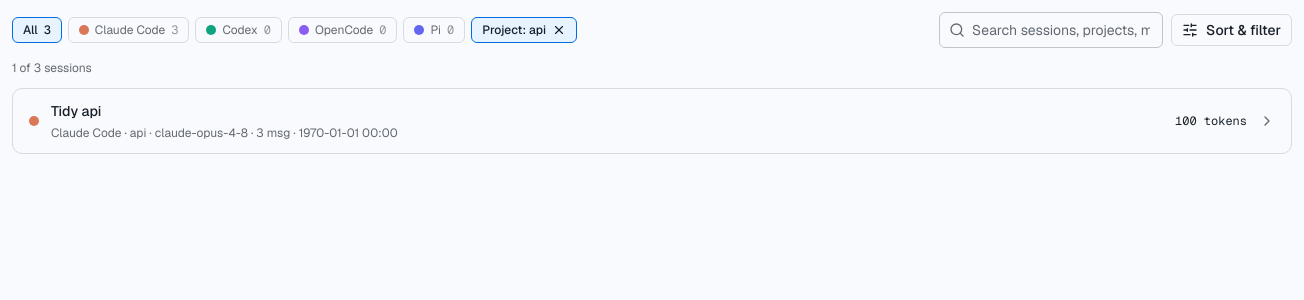
Test: SessionBrowser › drill-downs from the usage tab › filters to exactly the drilled project, as a chip that clears it
The image size is (1304, 300).
Expected: the text "Tidy api" is shown, top-left (51, 102), bottom-right (101, 120)
Expected: the text "Gateway work" is not shown
Click the button "Project: api": coordinates (524, 30) top-left (471, 17), bottom-right (577, 43)
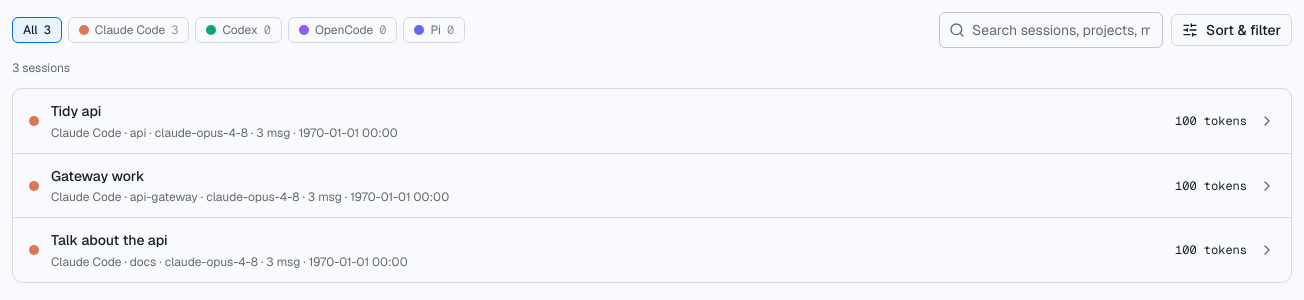
Now the text "Gateway work" is shown, box top-left (51, 167), bottom-right (144, 185)
